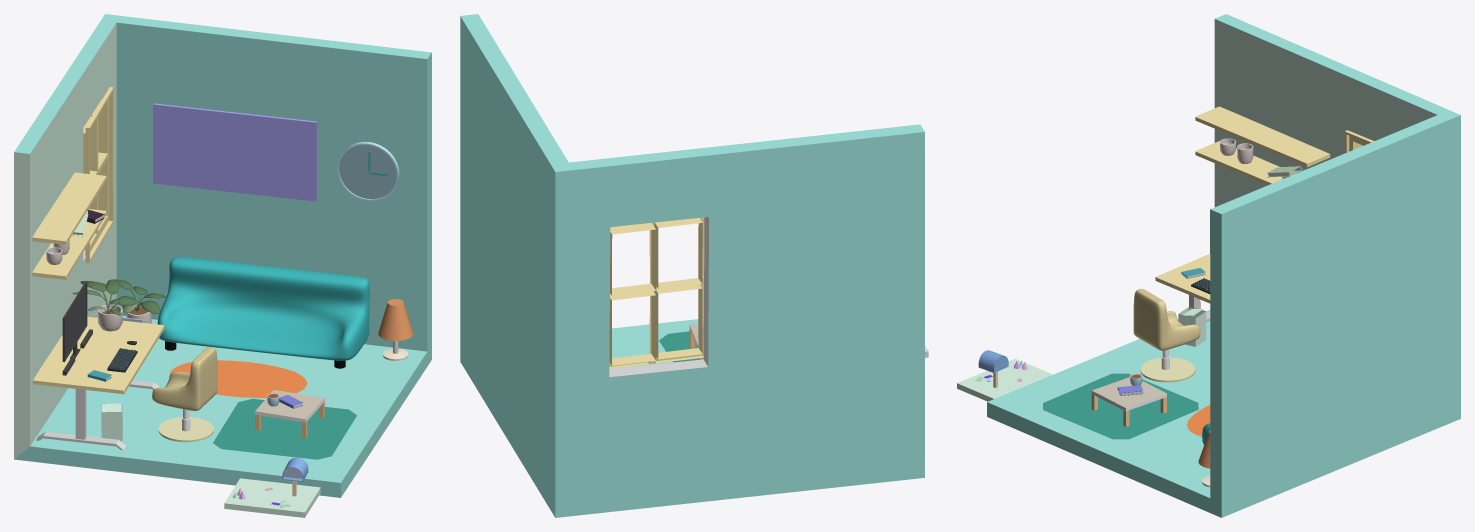
Rendered from finalroom.glb.
3 renders of one model, left to right at view 1: azimuth 30°, elevation 25°; view 2: azimuth 150°, elevation 25°; view 3: azimuth 270°, elevation 25°, orthographic. The views are drawn at different scales.
Parts seen in each view (by area): view 1: roomwall, Cube.096, Cube.098, Plane.002, Cube, Plane, Cylinder.014, Plane.001, Cube.046, Cube.101, Cube.095, Cube.097 (+9 smaller); view 2: roomwall, Plane, Plane.002; view 3: roomwall, Plane.002, Cube.046, Cube.095, Cube.101, Cube.097, Cube.086, Cube, Cylinder.004, garbage.001.
Part boxes in pixels (x1,y1,x2,y2): roomwall: (14,14,431,497); Cube.096: (157,257,369,360); Cube.098: (153,103,317,201); Plane.002: (213,398,356,459); Cube: (33,316,164,394); Plane: (83,87,113,262); Cylinder.014: (337,141,399,201); Plane.001: (169,360,306,397); Cube.046: (32,172,106,244); Cube.101: (224,478,320,517); Cube.095: (152,347,217,410); Cube.097: (255,390,324,438); roomwall: (460,14,924,517); Plane: (609,217,704,368); Plane.002: (659,331,698,362); roomwall: (987,14,1460,517); Plane.002: (1043,373,1198,439); Cube.046: (1195,106,1330,167); Cube.095: (1133,289,1200,350); Cube.101: (957,358,1052,401); Cube.097: (1091,377,1166,426); Cube.086: (1195,141,1282,185); Cube: (1155,254,1210,303); Cylinder.004: (1140,357,1195,382); garbage.001: (1178,307,1206,346).
Bounding box in the file's own units: 10.59 × 7.49 × 11.26.
